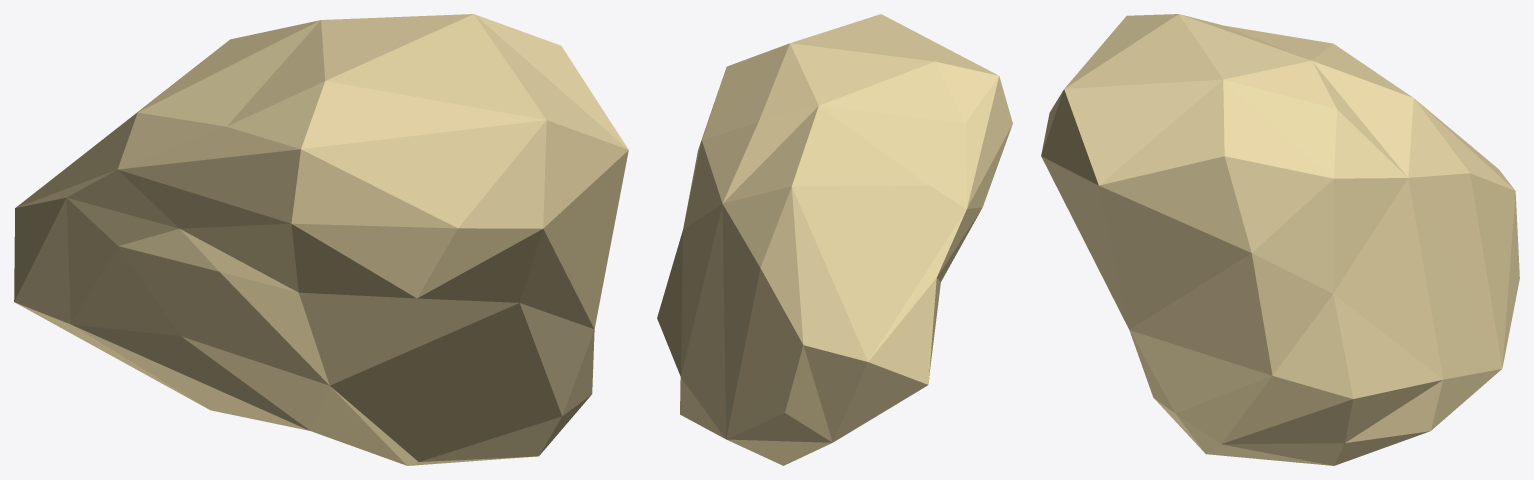
The model's file is Rock (36).fbx.
3 views of the same model, side by side, from view 1: azimuth 30°, elevation 25°; view 2: azimuth 150°, elevation 25°; view 3: azimuth 270°, elevation 25° (orthographic). The views are drawn at different scales.
Parts seen in each view (by area): view 1: Asteroid35; view 2: Asteroid35; view 3: Asteroid35.
Boxes of the visible parts, <box> form: Asteroid35: <box>14,14,628,465</box>; Asteroid35: <box>657,14,1012,465</box>; Asteroid35: <box>1041,14,1519,465</box>.
Size of the model in its own units: 134 by 137 by 158.
